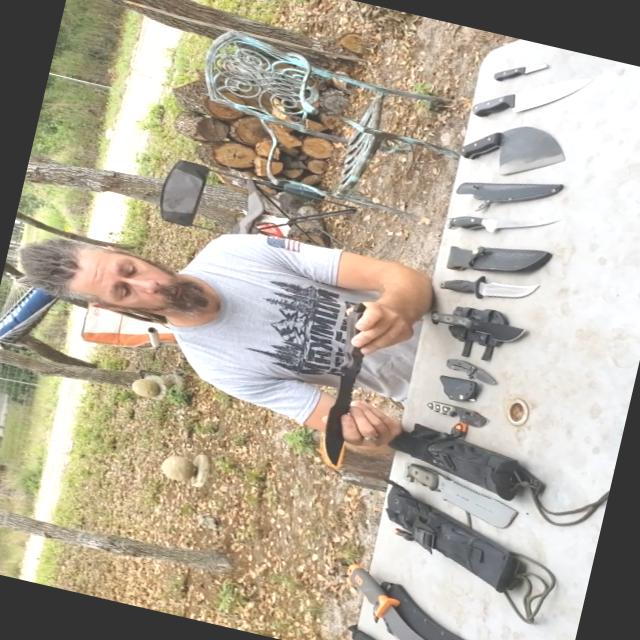knife: (289, 292, 406, 488), (292, 547, 520, 639), (373, 448, 531, 532), (465, 52, 588, 143), (434, 106, 566, 188), (430, 180, 564, 258), (422, 258, 552, 318), (417, 297, 542, 351), (482, 45, 555, 97), (435, 346, 508, 392), (411, 390, 494, 430), (319, 610, 429, 639)
